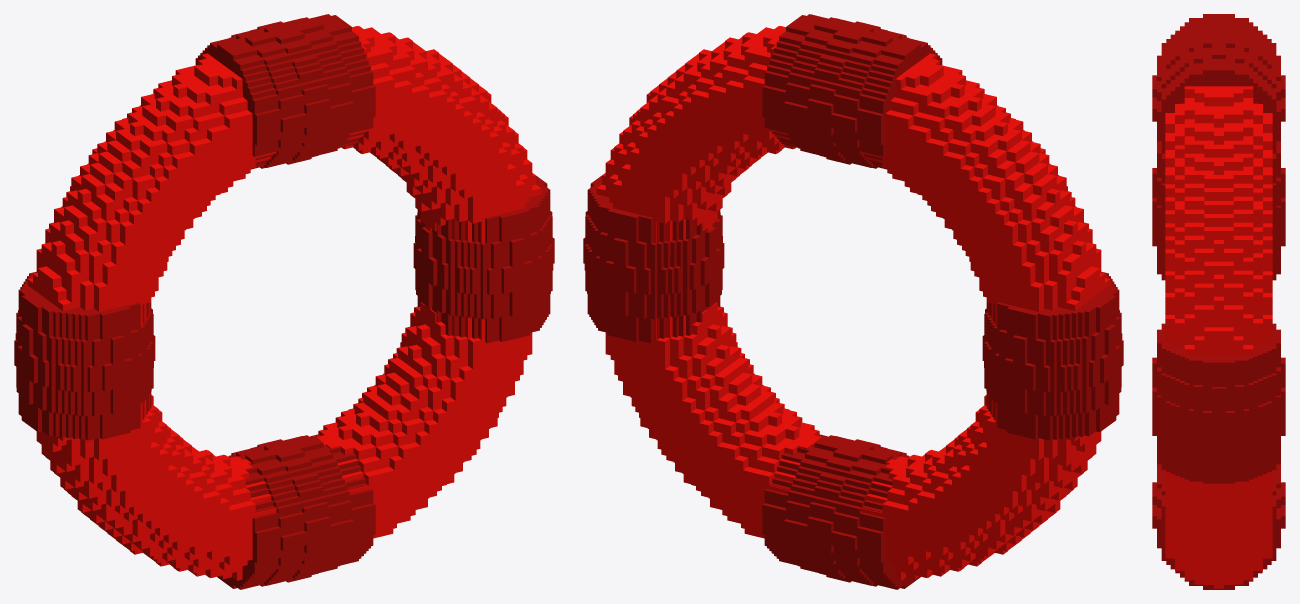
File: RocketRing.fbx
3 renders of one model, left to right at view 1: azimuth 30°, elevation 25°; view 2: azimuth 150°, elevation 25°; view 3: azimuth 270°, elevation 25°, orthographic. The views are drawn at different scales.
Visible parts, largest first — view 1: Torus, Torus.003, Torus.002; view 2: Torus, Torus.003, Torus.002; view 3: Torus, Torus.003, Torus.002.
Boxes of the visible parts, bbox=[...] form: Torus: bbox=[27, 26, 541, 580]; Torus.003: bbox=[14, 175, 554, 440]; Torus.002: bbox=[195, 14, 375, 589]; Torus: bbox=[596, 26, 1110, 580]; Torus.003: bbox=[583, 175, 1123, 440]; Torus.002: bbox=[762, 14, 942, 589]; Torus: bbox=[1165, 33, 1272, 588]; Torus.003: bbox=[1152, 141, 1285, 483]; Torus.002: bbox=[1152, 14, 1285, 589].
Bounding box in the file's own units: 88.05 × 88.05 × 20.13.
